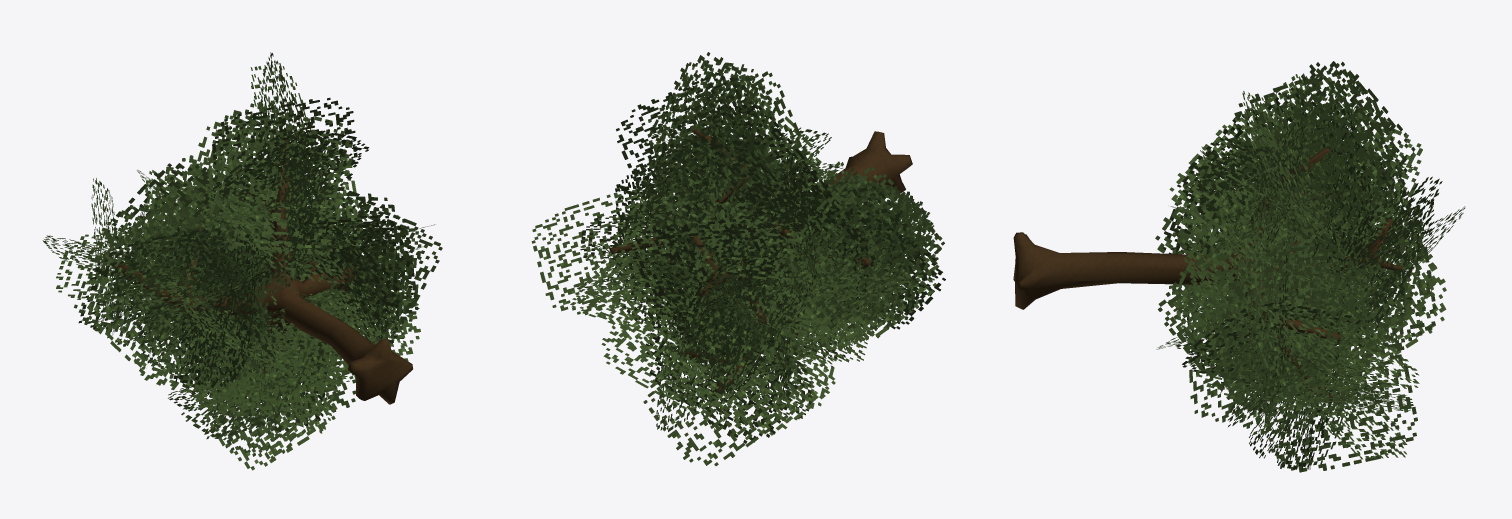
File: Tree2V2.fbx
3 renders of one model, left to right at view 1: azimuth 30°, elevation 25°; view 2: azimuth 150°, elevation 25°; view 3: azimuth 270°, elevation 25°, orthographic. The views are drawn at different scales.
Visible parts, largest first — view 1: Tree2V2; view 2: Tree2V2; view 3: Tree2V2.
Boxes of the visible parts, <box> form: Tree2V2: <box>42,52,442,470</box>; Tree2V2: <box>531,52,945,465</box>; Tree2V2: <box>1013,61,1465,472</box>.
Size of the model in its own units: 1307 by 1216 by 1101.
